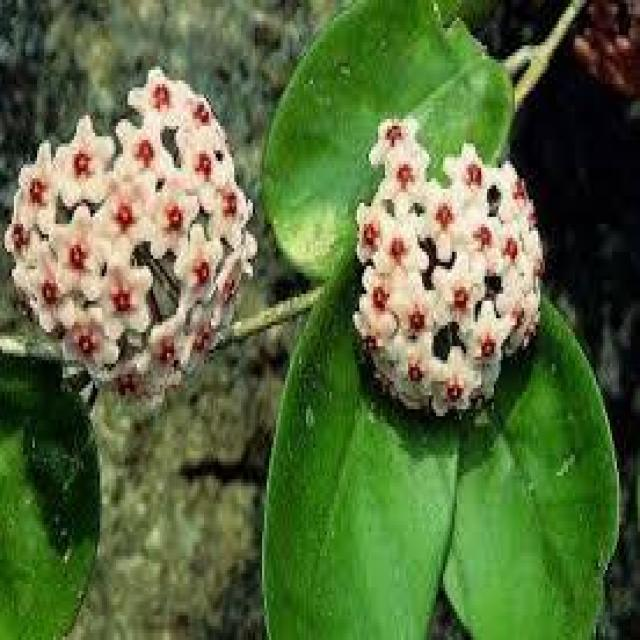organic waste: (8, 63, 266, 413), (348, 90, 542, 422)
